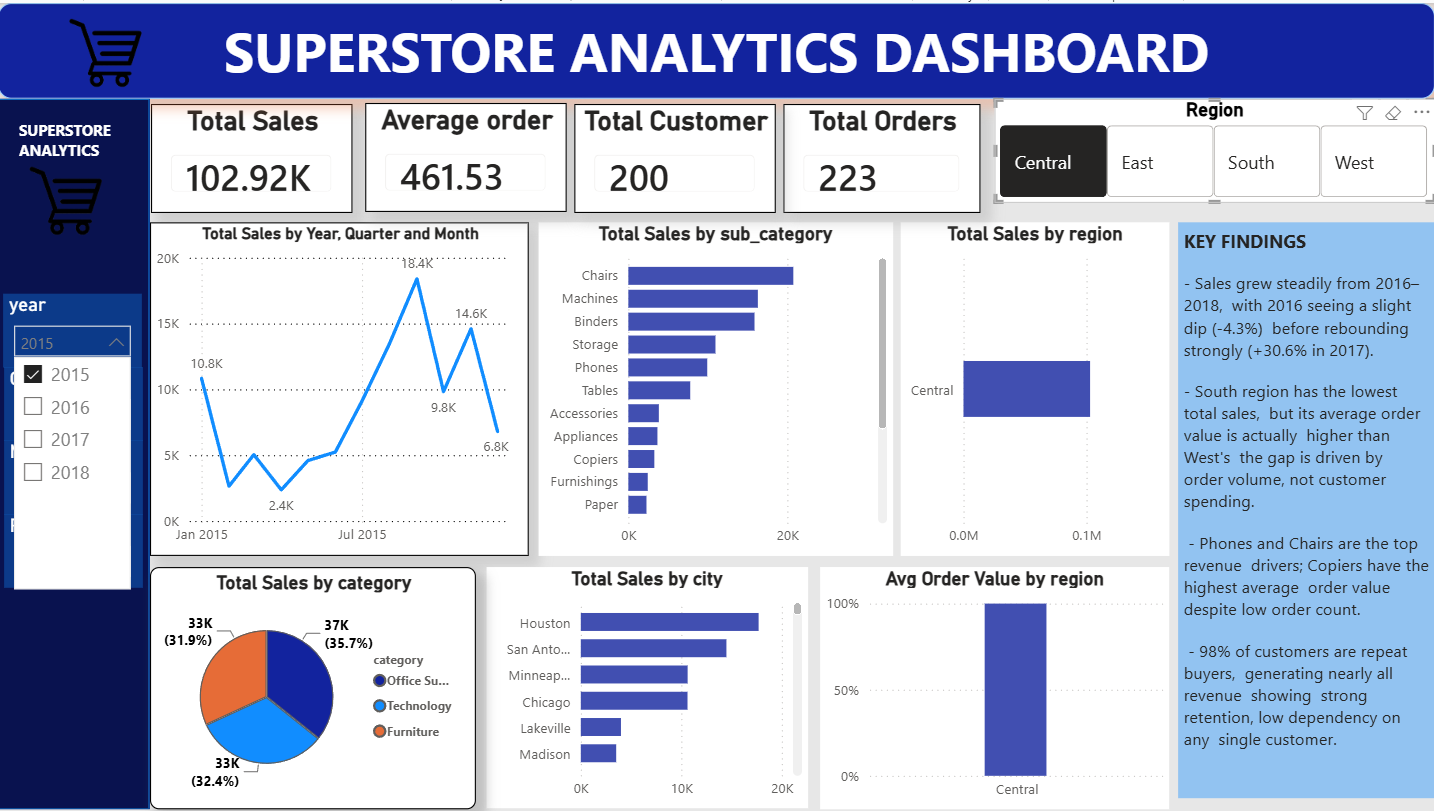

This screenshot's page, from the dashboard's own definition file:
{"tool":"powerbi","page":{"name":"Page 1","canvas":[1280,720],"ordinal":0},"visuals":[{"type":"cardVisual","title":"Total Sales","fields":{"Data":["DateTable.Total Sales"]},"box":[135.9,90.2,179.5,97.3],"z":0},{"type":"lineChart","fields":{"Y":["DateTable.Total Sales"],"Category":["DateTable.Date.Variation.Date Hierarchy.Year","DateTable.Date.Variation.Date Hierarchy.Quarter","DateTable.Date.Variation.Date Hierarchy.Month","DateTable.Date.Variation.Date Hierarchy.Day"]},"box":[135.7,195.7,337.6,297.1],"z":1000},{"type":"clusteredBarChart","fields":{"Y":["DateTable.Total Sales"],"Category":["public superstore_clean.region"]},"box":[804,195.7,239.3,297.1],"z":2000},{"type":"clusteredBarChart","fields":{"Y":["DateTable.Total Sales"],"Category":["public superstore_clean.city"]},"box":[434.8,501.9,285.9,214.9],"z":3000},{"type":"clusteredBarChart","fields":{"Category":["public superstore_clean.sub_category"],"Y":["DateTable.Total Sales"]},"box":[481.6,195.7,315.3,297.1],"z":4000},{"type":"advancedSlicerVisual","title":"Region","fields":{"Values":["public superstore_clean.region"]},"box":[887.3,85.4,392.3,92.6],"z":5000},{"type":"hundredPercentStackedColumnChart","fields":{"Category":["public superstore_clean.region"],"Y":["DateTable.Avg Order Value"]},"box":[731.9,501.9,311.3,216],"z":6000},{"type":"textbox","box":[22,0,125,85],"z":7000},{"type":"textbox","box":[0,0,1279.6,85],"z":8000},{"type":"cardVisual","title":"Average order","fields":{"Data":["DateTable.Avg Order Value"]},"box":[326.8,89.3,179.5,97.3],"z":9000},{"type":"cardVisual","title":"Total Orders","fields":{"Data":["DateTable.Total Orders"]},"box":[699.1,90.3,175.4,97.3],"z":10000},{"type":"shape","box":[0,85.2,134.9,632.7],"z":11000},{"type":"pieChart","fields":{"Y":["DateTable.Total Sales"],"Category":["public superstore_clean.category"]},"box":[135.7,501.9,290,216],"z":12000},{"type":"cardVisual","title":"Total Customer","fields":{"Data":["DateTable.Total Customers"]},"box":[513.5,90.3,179.5,97.3],"z":13000},{"type":"slicer","title":"year","fields":{"Values":["DateTable.Year"]},"box":[4.9,258.6,123.7,65.9],"z":14000},{"type":"slicer","title":"Quarter","fields":{"Values":["DateTable.Quarter"]},"box":[5.2,324,123.1,65.7],"z":15000},{"type":"slicer","title":"Month","fields":{"Values":["DateTable.Month"]},"box":[5.2,389.7,123.1,65.7],"z":16000},{"type":"slicer","title":"Region","fields":{"Values":["public superstore_clean.region"]},"box":[5.2,455.4,123.1,65.7],"z":17000},{"type":"textbox","box":[13.6,99,107.2,47.2],"z":18000},{"type":"image","box":[0,0,190.7,89],"z":19000},{"type":"image","box":[0,131.7,120.8,89],"z":20000},{"type":"textbox","box":[1050.7,195.3,228.9,482.2],"z":21000}]}

Visuals, with their boxes in screenshot pixels (x1, y1, x2, y2):
"Total Sales" cardVisual: BBox(148, 103, 354, 215)
lineChart - DateTable.Total Sales x DateTable.Date.Variation.Date Hierarchy.Year: BBox(148, 224, 535, 564)
clusteredBarChart - DateTable.Total Sales x public superstore_clean.region: BBox(913, 224, 1188, 564)
clusteredBarChart - DateTable.Total Sales x public superstore_clean.city: BBox(491, 575, 818, 810)
clusteredBarChart - public superstore_clean.sub_category x DateTable.Total Sales: BBox(544, 224, 905, 564)
"Region" advancedSlicerVisual: BBox(1009, 98, 1433, 204)
hundredPercentStackedColumnChart - public superstore_clean.region x DateTable.Avg Order Value: BBox(831, 575, 1187, 810)
textbox: BBox(18, 0, 161, 97)
textbox: BBox(0, 0, 1433, 97)
"Average order" cardVisual: BBox(367, 102, 572, 214)
"Total Orders" cardVisual: BBox(793, 103, 994, 215)
shape: BBox(0, 98, 147, 810)
pieChart - DateTable.Total Sales x public superstore_clean.category: BBox(148, 575, 480, 810)
"Total Customer" cardVisual: BBox(581, 103, 786, 215)
"year" slicer: BBox(0, 296, 140, 372)
"Quarter" slicer: BBox(0, 371, 139, 446)
"Month" slicer: BBox(0, 446, 139, 522)
"Region" slicer: BBox(0, 522, 139, 597)
textbox: BBox(8, 113, 131, 167)
image: BBox(0, 0, 211, 102)
image: BBox(0, 151, 131, 253)
textbox: BBox(1196, 224, 1433, 776)
